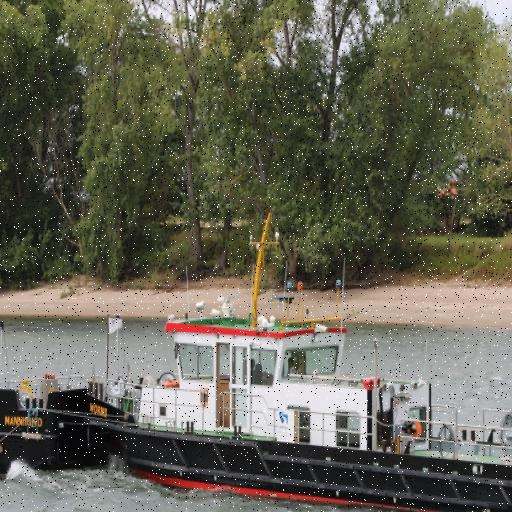tugboat: (57, 210, 512, 512)
